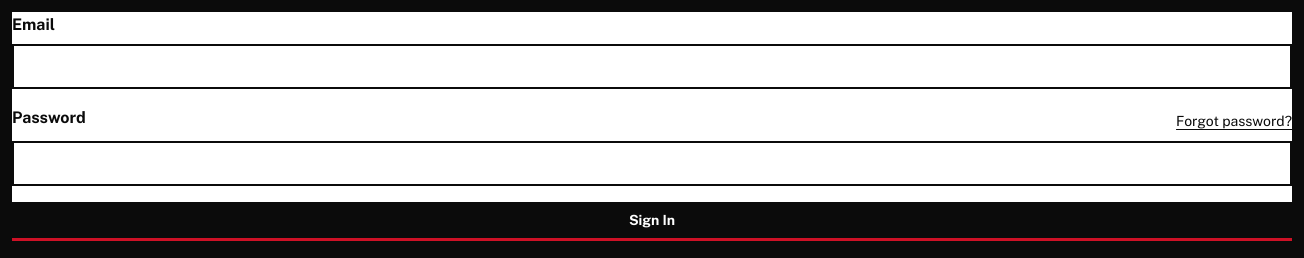
Scenario: LoginForm › Password reset flow › shows password reset form when forgot password clicked
Click the button "Forgot password?" at (1234, 121), box [1176,111,1292,131]
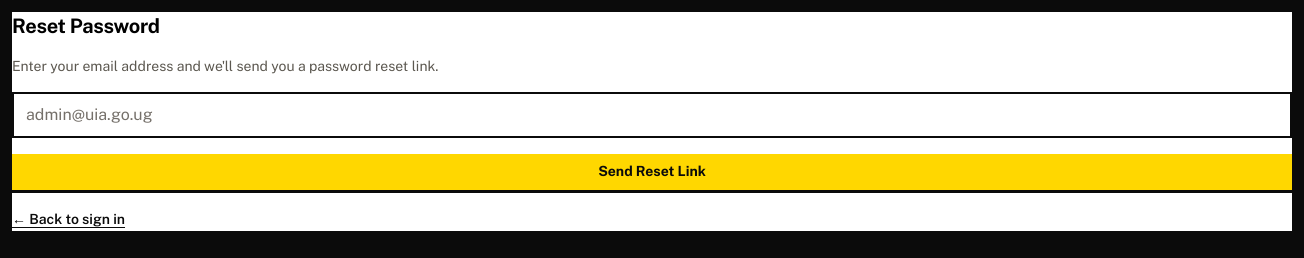
Expected: the heading "Reset Password" is shown, [12,14,160,38]
Expected: the field with placeholder "admin@uia.go.ug" is shown, [12,92,1292,138]
